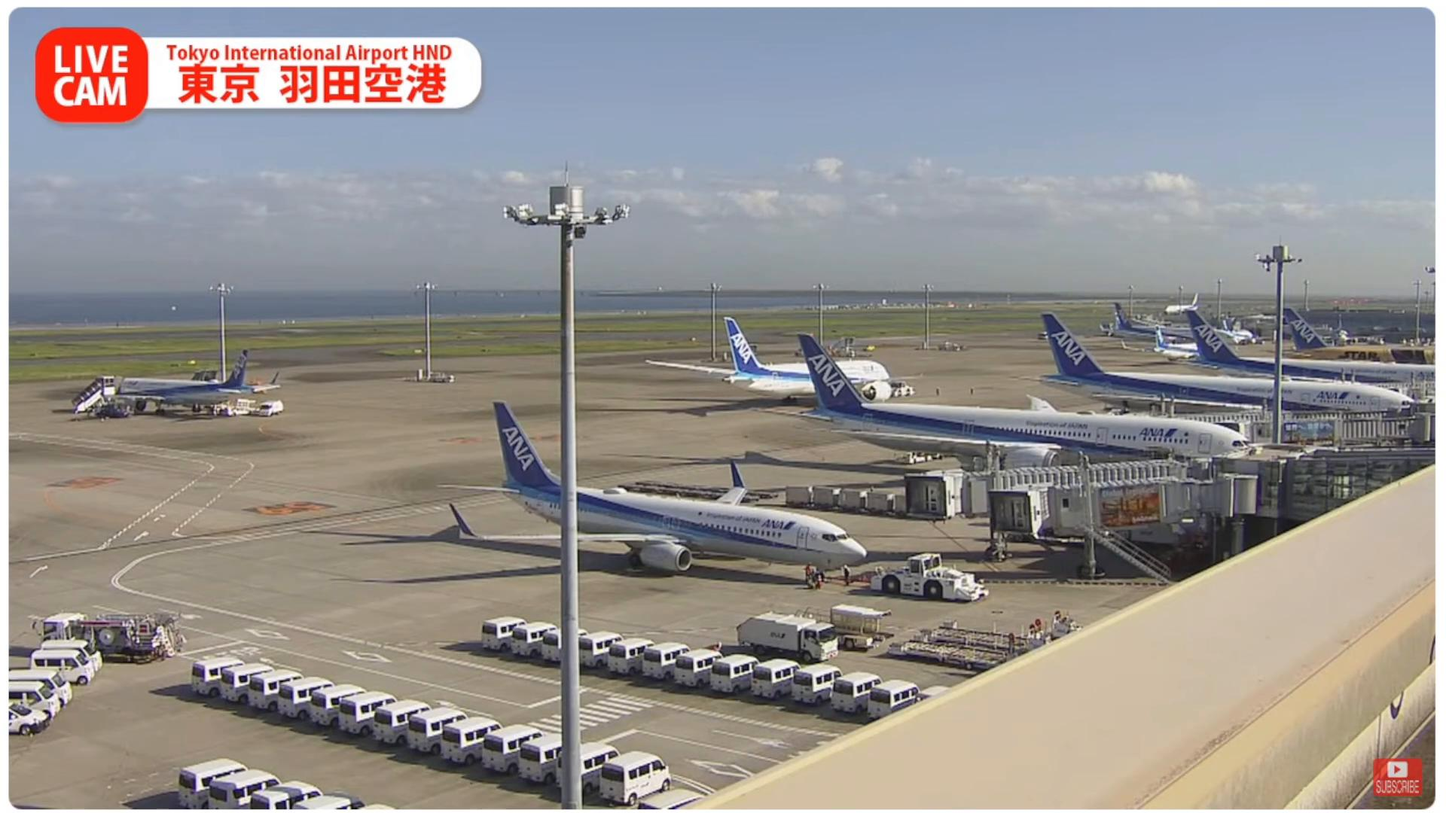APS: (871, 557, 989, 603)
Aerobridge: (904, 443, 1220, 528), (991, 451, 1256, 537)
Airplane: (438, 402, 868, 589)
Baggage truck: (734, 613, 841, 664)
JCPL: (918, 616, 1075, 656), (890, 639, 1018, 670)
Skyloader: (793, 603, 894, 653)
Window: (1290, 445, 1435, 519)
